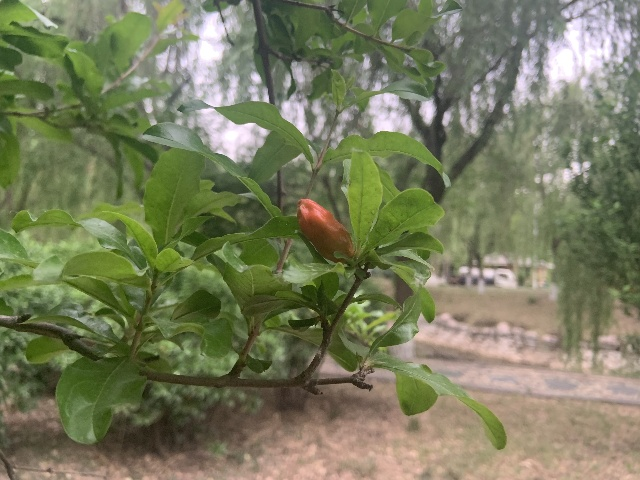bud: (296, 198, 354, 263)
